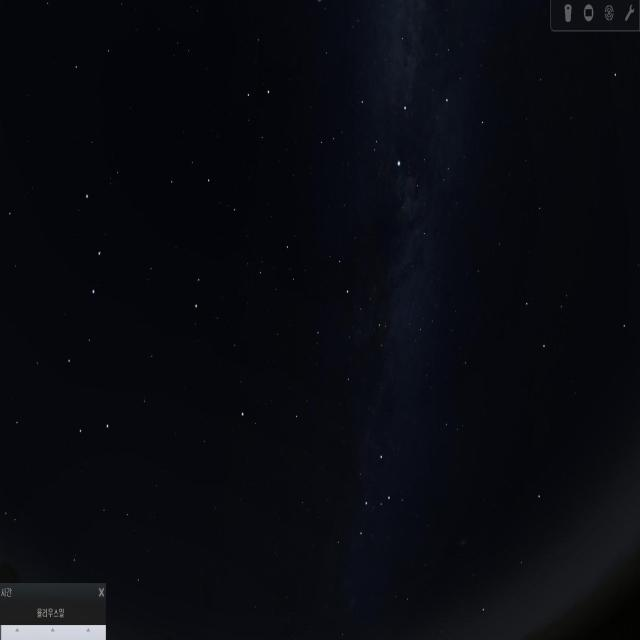cassiopeia: (327, 441, 402, 548)
cygnus: (359, 2, 449, 187)
ursa_major: (48, 165, 116, 447)
